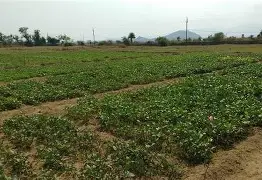crops: (0, 46, 258, 113), (0, 21, 258, 47), (1, 113, 88, 176), (112, 140, 178, 178), (97, 98, 154, 132), (172, 127, 214, 165), (1, 50, 64, 75), (75, 150, 123, 180), (55, 63, 115, 87), (207, 119, 251, 150), (61, 98, 104, 128), (215, 58, 262, 83), (207, 152, 251, 178), (3, 77, 50, 100), (85, 127, 123, 153), (117, 72, 175, 89), (139, 122, 170, 145), (203, 42, 262, 54), (47, 84, 89, 100), (0, 94, 22, 109), (162, 70, 195, 79), (105, 81, 131, 91), (190, 66, 218, 75), (106, 53, 136, 60), (48, 71, 73, 79), (1, 62, 20, 69), (252, 85, 262, 98), (39, 61, 56, 66), (241, 109, 248, 118), (79, 57, 91, 61), (91, 57, 100, 62), (103, 54, 108, 58)
